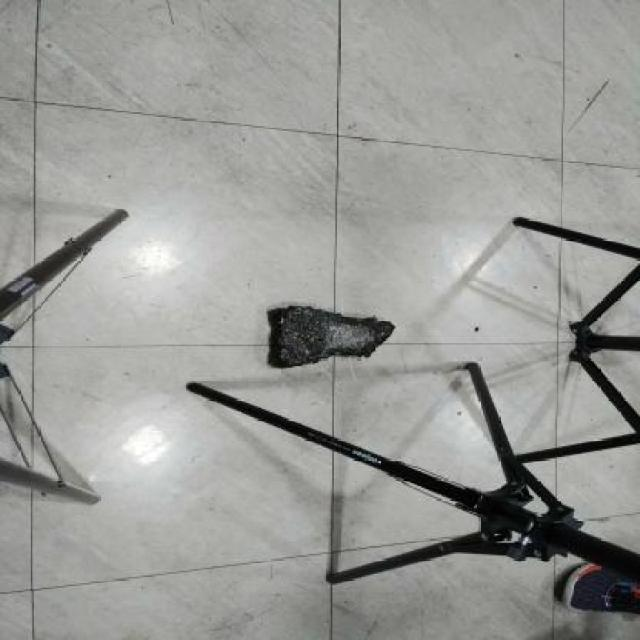Road Debris: (262, 303, 333, 371)
